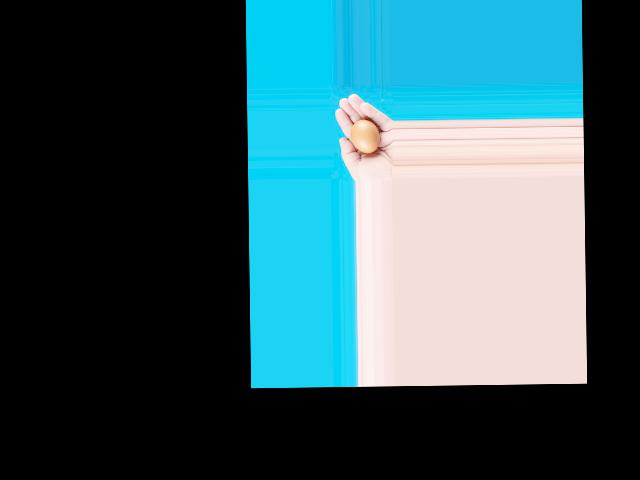egg: (350, 118, 379, 153)
